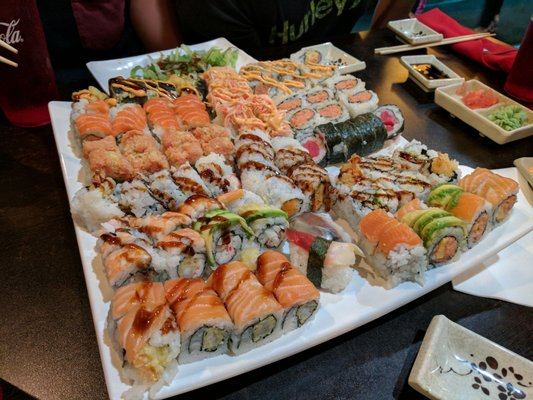pizza: (0, 0, 62, 128)
